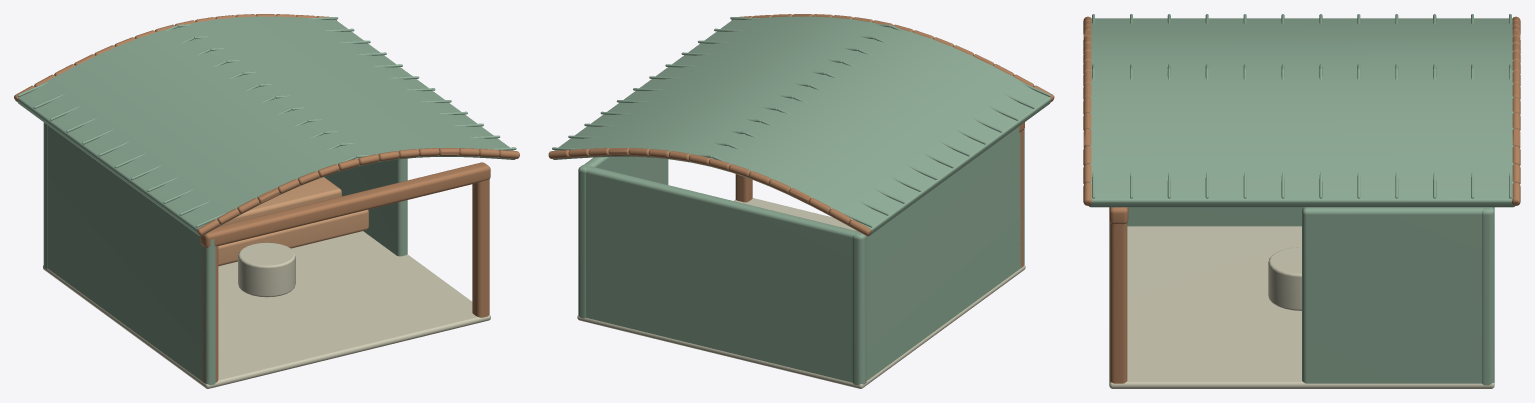
File: steam_room.glb
The picture shows the model from 3 angles, left to right: view 1: azimuth 30°, elevation 25°; view 2: azimuth 150°, elevation 25°; view 3: azimuth 270°, elevation 25°; orthographic projection. The views are drawn at different scales.
Parts seen in each view (by area): view 1: Roof_sage, Body_sage, Body_stone, Body_wood, Body_cedar, Roof_wood; view 2: Body_sage, Roof_sage, Roof_wood, Body_stone, Body_wood; view 3: Roof_sage, Body_sage, Body_stone, Roof_wood, Body_wood.
Boxes of the visible parts, left/top/right/bottom form: Roof_sage: left=17, top=16, right=516, bottom=236; Body_sage: left=43, top=122, right=407, bottom=385; Body_stone: left=43, top=231, right=490, bottom=388; Body_wood: left=200, top=162, right=490, bottom=382; Body_cedar: left=218, top=177, right=368, bottom=266; Roof_wood: left=14, top=14, right=519, bottom=235; Body_sage: left=578, top=126, right=1024, bottom=385; Roof_sage: left=552, top=16, right=1050, bottom=236; Roof_wood: left=548, top=14, right=1054, bottom=235; Body_stone: left=577, top=198, right=1025, bottom=388; Body_wood: left=735, top=122, right=1024, bottom=267; Roof_sage: left=1089, top=14, right=1514, bottom=207; Body_sage: left=1109, top=207, right=1494, bottom=385; Body_stone: left=1109, top=226, right=1494, bottom=388; Roof_wood: left=1083, top=16, right=1520, bottom=205; Body_wood: left=1109, top=207, right=1128, bottom=383.
Bounding box in the file's own units: 5.52 × 3.37 × 5.56.
